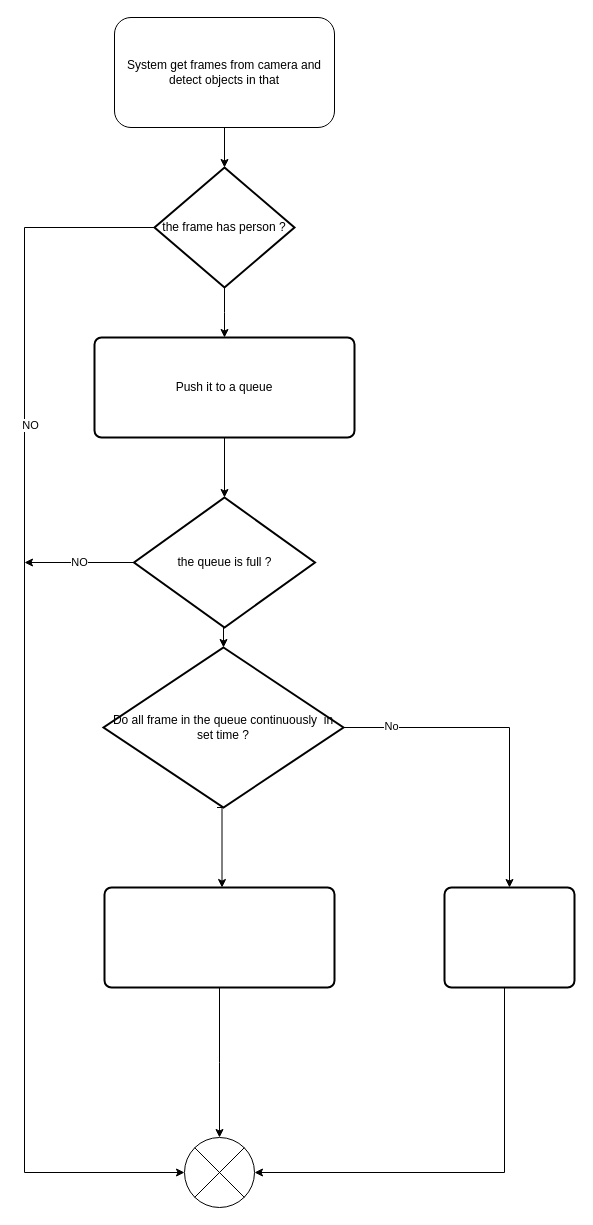
The diagram is 593 pixels wide and 1225 high, and some of its shapes have lost their labels. The shapes that lost their labels are listed below. From the top down, each one's centre as x and y in pixels, then its label:
At point 219,937: "Drop all element in the queue. create a event and send the detected result".
At point 509,937: "pop an element from back of the queue".
